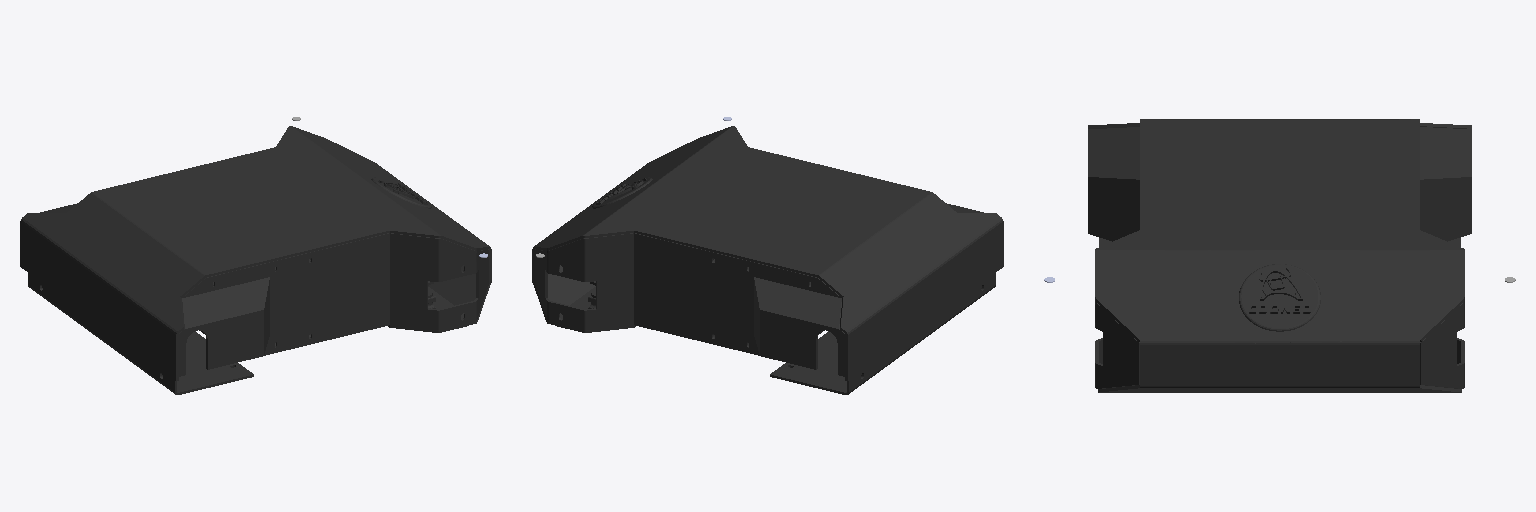
robot.urdf — neor_mini:
<?xml version="1.0" encoding="utf-8"?>
<!-- This URDF was automatically created by SolidWorks to URDF Exporter! Originally created by [author] ([email redacted]) 
     Commit Version: 1.5.1-0-g916b5db  Build Version: 1.5.7152.31018
     For more information, please see http://wiki.ros.org/sw_urdf_exporter -->
<robot name="neor_mini">

  <!-- Add Gazebo plugins -->
    <!-- Load ros_control plugin using the steer_bot_hardware_gazebo
    implementation of the hardware_interface::RobotHW -->

  <gazebo>
    <plugin name="gazebo_ros_control" filename="libgazebo_ros_control.so">
      <robotSimType>steer_bot_hardware_gazebo/SteerBotHardwareGazebo</robotSimType>
      <legacyModeNS>false</legacyModeNS>
    </plugin>
  </gazebo>

       <link name="base_link">
    <!-- avoid root link inertia warnings, annotation -->
    <inertial>
      <origin
        xyz="0.030649671440691 -1.79069899872708E-05 0.0558717976709459"
        rpy="0 0 0" />
      <mass
        value="1.72617713171385" />
      <inertia
        ixx="0.0107311274569357"
        ixy="-3.24164649120244E-08"
        ixz="0.00169188715816868"
        iyy="0.0198871551919603"
        iyz="2.40252669081509E-07"
        izz="0.0269841937242323" />
    </inertial>

    <visual>
      <origin xyz="0 0 0" rpy="0 0 0" />
      <geometry>
        <mesh filename="package://neor_mini/meshes/base_link.dae" />
      </geometry>
      <material name="">
      <color rgba="0.250980392156863 0.250980392156863 0.250980392156863 1" /> 
      </material> 
    </visual>
    <collision>
      <origin
        xyz="0 0 0"
        rpy="0 0 0" />
      <geometry>
        <mesh
          filename="package://neor_mini/meshes/base_link.STL" />
      </geometry>
    </collision>
  </link>
  <link
    name="rear_wheel_link">
    <inertial>
      <origin
        xyz="-8.88178419700125E-16 -2.05391259555654E-14 -0.00112500000001892"
        rpy="0 0 0" />
      <mass
        value="5.65486677646169E-05" />
      <inertia
        ixx="1.32005796313028E-10"
        ixy="-1.938704560671E-27"
        ixz="2.13770572261755E-26"
        iyy="1.32005796313028E-10"
        iyz="-7.60216295195271E-25"
        izz="2.03575203952622E-10" />
    </inertial>
    <visual>
      <origin
        xyz="0 0 0"
        rpy="0 0 0" />
      <geometry>
        <mesh
          filename="package://neor_mini/meshes/rear_wheel_link.STL" />
      </geometry>
      <material
        name="">
        <color
          rgba="0.274509803921569 1 0.247058823529412 1" />
      </material>
    </visual>
    <collision>
      <origin
        xyz="0 0 0"
        rpy="0 0 0" />
      <geometry>
        <mesh
          filename="package://neor_mini/meshes/rear_wheel_link.STL" />
      </geometry>
    </collision>
  </link>
  <joint
    name="rear_wheel_joint"
    type="continuous">
    <origin
      xyz="-0.181499999999597 0 0.0399999999987674"
      rpy="0 0 0" />
    <parent
      link="base_link" />
    <child
      link="rear_wheel_link" />
    <axis
      xyz="0 1 0" />
  </joint>
  <link
    name="left_rear_link">
    <inertial>
      <origin
        xyz="7.85229659072684E-11 -0.0196762547002777 4.85059770127805E-11"
        rpy="0 0 0" />
      <mass
        value="0.29556182905038" />
      <inertia
        ixx="0.000374087423652291"
        ixy="2.19336154342606E-13"
        ixz="-5.50404301757561E-12"
        iyy="0.000661017199375587"
        iyz="-5.10049385981967E-14"
        izz="0.000374087441459994" />
    </inertial>
    <visual>
      <origin
        xyz="0 0 0"
        rpy="0 0 0" />
      <geometry>
        <mesh
          filename="package://neor_mini/meshes/left_rear_link.STL" />
      </geometry>
      <material
        name="">
        <color
          rgba="0.792156862745098 0.819607843137255 0.933333333333333 1" />
      </material>
    </visual>
    <collision>
      <origin
        xyz="0 0 0"
        rpy="0 0 0" />
      <geometry>
        <mesh
          filename="package://neor_mini/meshes/left_rear_link.STL" />
      </geometry>
    </collision>
  </link>
  <joint
    name="left_rear_joint"
    type="continuous">
    <origin
      xyz="-0.181499999999595 0.228542434993694 0.0399999999991634"
      rpy="0 0 0" />
    <parent
      link="base_link" />
    <child
      link="left_rear_link" />
    <axis
      xyz="0 1 0" />
    <limit
      lower="-3.14"
      upper="3.14"
      effort="0"
      velocity="0" />
  </joint>
  <link
    name="right_rear_link">
    <inertial>
      <origin
        xyz="7.8521189550429E-11 0.0196762545376323 3.35983463273237E-11"
        rpy="0 0 0" />
      <mass
        value="0.295561829050389" />
      <inertia
        ixx="0.000374087423652306"
        ixy="-2.1933774523493E-13"
        ixz="5.50404145624456E-12"
        iyy="0.000661017199375601"
        iyz="-5.10073974604221E-14"
        izz="0.000374087441459995" />
    </inertial>
    <visual>
      <origin
        xyz="0 0 0"
        rpy="0 0 0" />
      <geometry>
        <mesh
          filename="package://neor_mini/meshes/right_rear_link.STL" />
      </geometry>
      <material
        name="">
        <color
          rgba="0.792156862745098 0.819607843137255 0.933333333333333 1" />
      </material>
    </visual>
    <collision>
      <origin
        xyz="0 0 0"
        rpy="0 0 0" />
      <geometry>
        <mesh
          filename="package://neor_mini/meshes/right_rear_link.STL" />
      </geometry>
    </collision>
  </link>
  <joint
    name="right_rear_joint"
    type="continuous">
    <origin
      xyz="-0.181499999999595 -0.228542434994426 0.0399999999991584"
      rpy="0 0 0" />
    <parent
      link="base_link" />
    <child
      link="right_rear_link" />
    <axis
      xyz="0 1 0" />
    <limit
      lower="-3.14"
      upper="3.14"
      effort="0"
      velocity="0" />
  </joint>
  <link
    name="front_steer_link">
    <inertial>
      <origin
        xyz="-2.1316282072803E-14 3.67778030252452E-11 -0.00112486602459905"
        rpy="0 0 0" />
      <mass
        value="5.65486677646163E-05" />
      <inertia
        ixx="1.32005796313026E-10"
        ixy="1.16322273640277E-26"
        ixz="1.20446157864484E-28"
        iyy="1.32005796313026E-10"
        iyz="-8.66481261175625E-27"
        izz="2.03575203952619E-10" />
    </inertial>
    <visual>
      <origin
        xyz="0 0 0"
        rpy="0 0 0" />
      <geometry>
        <mesh
          filename="package://neor_mini/meshes/front_steer_link.STL" />
      </geometry>
      <material
        name="">
        <color
          rgba="0.274509803921569 1 0.247058823529412 1" />
      </material>
    </visual>
    <collision>
      <origin
        xyz="0 0 0"
        rpy="0 0 0" />
      <geometry>
        <mesh
          filename="package://neor_mini/meshes/front_steer_link.STL" />
      </geometry>
    </collision>
  </link>
  <joint
    name="front_steer_joint"
    type="revolute">
    <origin
      xyz="0.172883370897628 0 -0.00376561854722868"
      rpy="0 0 0" />
    <parent
      link="base_link" />
    <child
      link="front_steer_link" />
    <axis
      xyz="0 0 1" />
    <limit
      lower="-0.72"
      upper="0.72"
      effort="0"
      velocity="0" />
  </joint>

<!-- In order to fit ackermann simulation plugins's request,amend the front steer link and it's joint -->
 <link name="front_steer_right_link">
 <!--  remember add inertial  label,if not,and it can't visual on gazebo-->
 <inertial>  
      <origin xyz="9.44636555644252E-08 -0.000295273745285485 -8.13046296954667E-11" rpy="0 0 0" />
      <mass value="0.296315811300368" /> 
      <inertia
        ixx="0.000374692013709393"
        ixy="-9.17172260383823E-08"
        ixz="-2.43187512356516E-12"
        iyy="0.000661029987747155"
        iyz="1.9736939507106E-13"
        izz="0.000374691963930348" />
    </inertial>
   <visual>
     <geometry>
       <cylinder length="0.001" radius="0.005"/>
     </geometry>
     <origin rpy="0 0 0"  xyz="0 0 0" />
     <material name=""> 
          <color rgba="0.792156862745098 0.819607843137255 0.933333333333333 1" />
     </material>
   </visual>
   <collision>
      <origin
        xyz="0 0 0"
        rpy="0 0 0" />
      <geometry>
       <cylinder length="0.001" radius="0.005"/>
      </geometry>
    </collision>
 </link>
 <joint name="front_steer_right_joint" type="revolute">
    <origin rpy="0 0 0"  xyz="0.17 -0.21 0.102" />
    <parent link="base_link" />
    <child link="front_steer_right_link" />
    <axis xyz="0 0 1" />     <!-- charge steer direction default is 0 0 1-->
    <limit lower="-0.69" upper="0.69" effort="0" velocity="0" />
 </joint>
<!-- ************************************************************************************* -->

  <link
    name="front_right_wheel_link">
    <inertial>
      <origin
        xyz="9.44636555644252E-08 -0.000295273745285485 -8.13046296954667E-11"
        rpy="0 0 0" />
      <mass
        value="0.296315811300368" />
      <inertia
        ixx="0.000374692013709393"
        ixy="-9.17172260383823E-08"
        ixz="-2.43187512356516E-12"
        iyy="0.000661029987747155"
        iyz="1.9736939507106E-13"
        izz="0.000374691963930348" />
    </inertial>
    <visual>
      <origin
        xyz="0 0 0"
        rpy="0 0 0" />
      <geometry>
        <mesh
          filename="package://neor_mini/meshes/front_right_wheel_link.STL" />
      </geometry>
      <material
        name="">
        <color
          rgba="0.792156862745098 0.819607843137255 0.933333333333333 1" />
      </material>
    </visual>
    <collision>
      <origin
        xyz="0 0 0"
        rpy="0 0 0" />
      <geometry>
        <mesh
          filename="package://neor_mini/meshes/front_right_wheel_link.STL" />
      </geometry>
    </collision>
  </link>
  <joint name="front_right_wheel_joint" type="continuous">
    <origin xyz="0 0 -0.06" rpy="0 0 0" />   <!-- amend the position between steer_right_link and front right wheel-->
    <parent link="front_steer_right_link" />
    <child  link="front_right_wheel_link" />
    <axis xyz="0 1 0" />
  </joint>

<!-- In order to fit ackermann simulation plugins's request,amend the front steer link and it's joint -->
 <link name="front_steer_left_link">
 <!--  remember add inertial  label,if not,and it can't visual on gazebo-->
    <inertial> 
      <origin xyz="9.44636555644252E-08 -0.000295273745285485 -8.13046296954667E-11" rpy="0 0 0" />
      <mass value="0.296315811300368" /> 
      <inertia
        ixx="0.000374692013709393"
        ixy="-9.17172260383823E-08"
        ixz="-2.43187512356516E-12"
        iyy="0.000661029987747155"
        iyz="1.9736939507106E-13"
        izz="0.000374691963930348" />
    </inertial>
   <visual>
     <geometry>
       <cylinder length="0.001" radius="0.005"/>
     </geometry>
     <origin rpy="0 0 0"  xyz="0 0 0" />
   </visual>
    <collision>
      <origin xyz="0 0 0" rpy="0 0 0" />
      <geometry>
       <cylinder length="0.001" radius="0.005"/>
      </geometry>
    </collision>
 </link>
 <joint name="front_steer_left_joint" type="revolute">
    <origin rpy="0 0 0"  xyz="0.17 0.21 0.102" />
    <parent link="base_link" />
    <child link="front_steer_left_link" />
    <axis xyz="0 0 1" />  <!-- charge steer direction default is 0 0 1-->
    <limit lower="-0.69" upper="0.69" effort="0" velocity="0" />
 </joint>
<!-- ************************************************************************************* -->

  <link
    name="front_left_wheel_link">
    <inertial>
      <origin
        xyz="-3.99413835339146E-11 0.000295273997845347 1.08602016268833E-10"
        rpy="0 0 0" />
      <mass
        value="0.296315811293944" />
      <inertia
        ixx="0.00037469197851121"
        ixy="-1.84493877596723E-13"
        ixz="-9.50756757097929E-12"
        iyy="0.00066103001709398"
        iyz="-1.17866882205563E-13"
        izz="0.000374691969713977" />
    </inertial>
    <visual>
      <origin
        xyz="0 0 0"
        rpy="0 0 0" />
      <geometry>
        <mesh
          filename="package://neor_mini/meshes/front_left_wheel_link.STL" />
      </geometry>
      <material
        name="">
        <color
          rgba="0.792156862745098 0.819607843137255 0.933333333333333 1" />
      </material>
    </visual>
    <collision>
      <origin
        xyz="0 0 0"
        rpy="0 0 0" />
      <geometry>
        <mesh
          filename="package://neor_mini/meshes/front_left_wheel_link.STL" />
      </geometry>
    </collision>
  </link>
  <joint name="front_left_wheel_joint" type="continuous">
    <origin xyz="0 0 -0.06" rpy="0 0 0" />      <!-- amend the position between steer_left_link and front left wheel-->
    <parent link="front_steer_left_link" />
    <child link="front_left_wheel_link" />
    <axis xyz="0 1 0" /> 
  </joint>


</robot>

--- Render facts (derived) ---
Views: 3 orthographic renders of the robot side by side, from view 1: azimuth 30°, elevation 25°; view 2: azimuth 150°, elevation 25°; view 3: azimuth 270°, elevation 25°.
Robot: neor_mini — 9 links, 8 joints (3 revolute, 5 continuous); root link base_link; default pose: all joints at 0.
Links seen in each view (by area): view 1: base_link; view 2: base_link; view 3: base_link.
Link boxes in pixels (x1,y1,x2,y2): base_link: (20, 126, 491, 394); base_link: (532, 126, 1003, 394); base_link: (1088, 119, 1471, 392).
Size in the robot's own frame: 0.4361 by 0.43 by 0.1213 metres.
Meshes: 7 distinct files referenced, 1 mesh visuals loaded (1 Collada DAE); not drawn: 6 (reference not matched to a file when rendering).